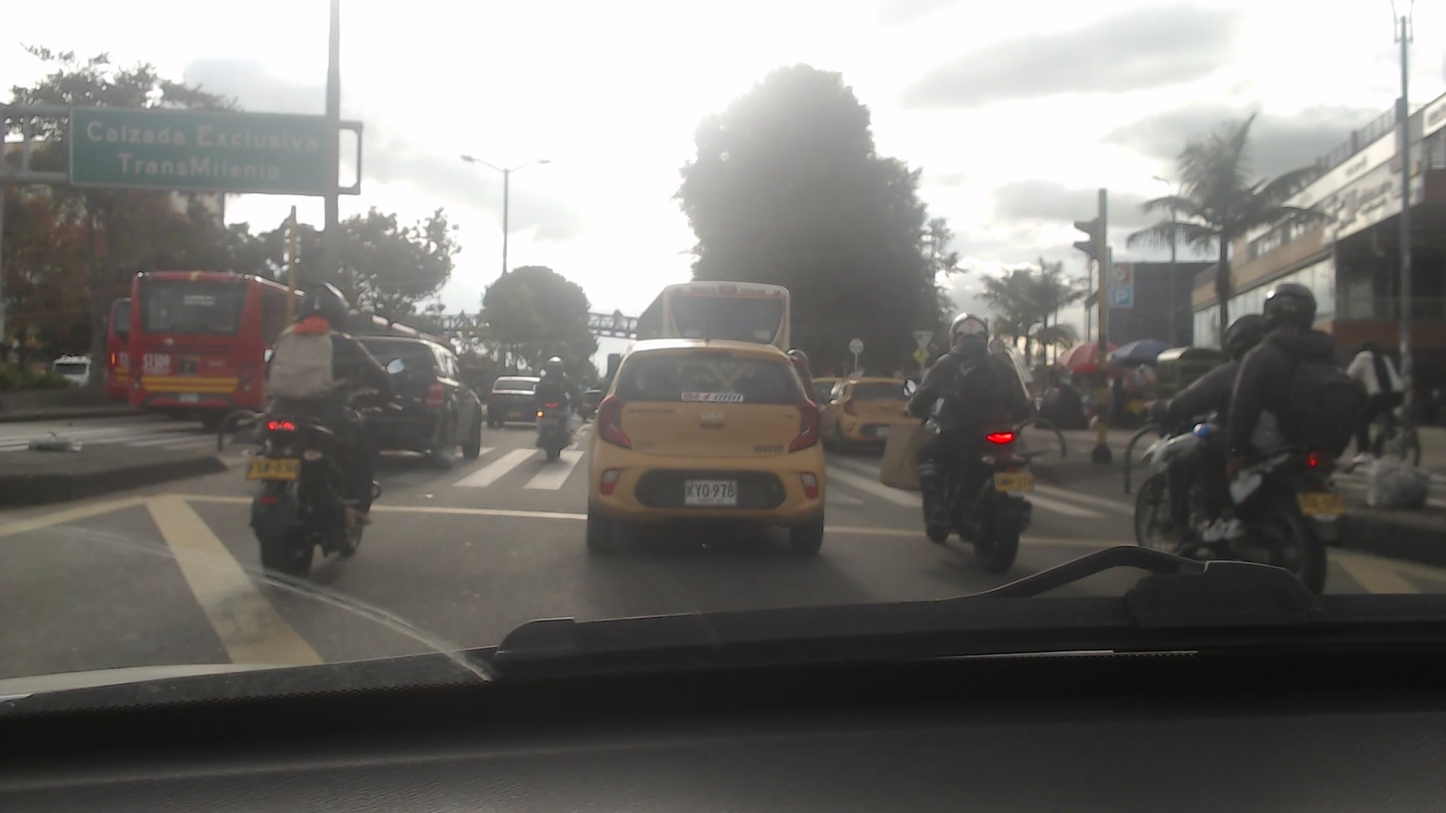bus: (631, 276, 801, 362)
car: (583, 336, 831, 557), (488, 368, 541, 431)
motorcycle: (1107, 392, 1330, 586), (238, 401, 384, 572), (906, 403, 1024, 581), (530, 395, 580, 461)
person: (264, 280, 374, 570), (910, 310, 1025, 515), (1235, 291, 1335, 490), (1177, 310, 1264, 505), (827, 372, 917, 444), (530, 353, 578, 456)
